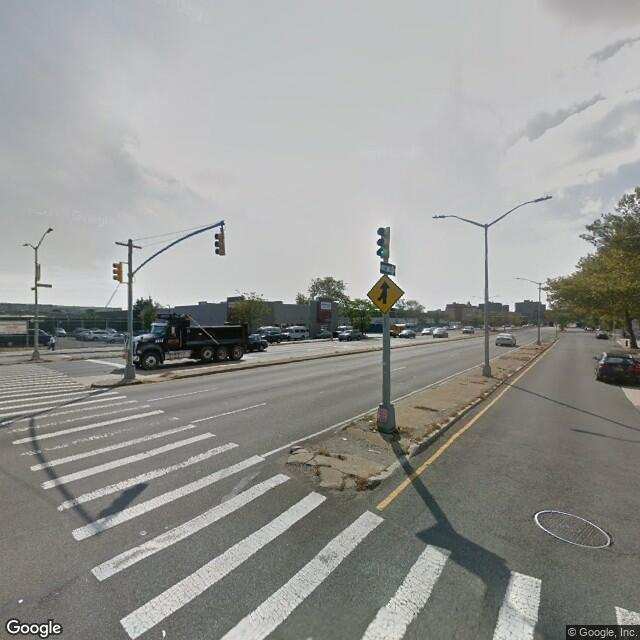litter: (342, 435, 350, 441), (160, 631, 166, 638), (140, 530, 150, 533), (19, 598, 25, 600)
